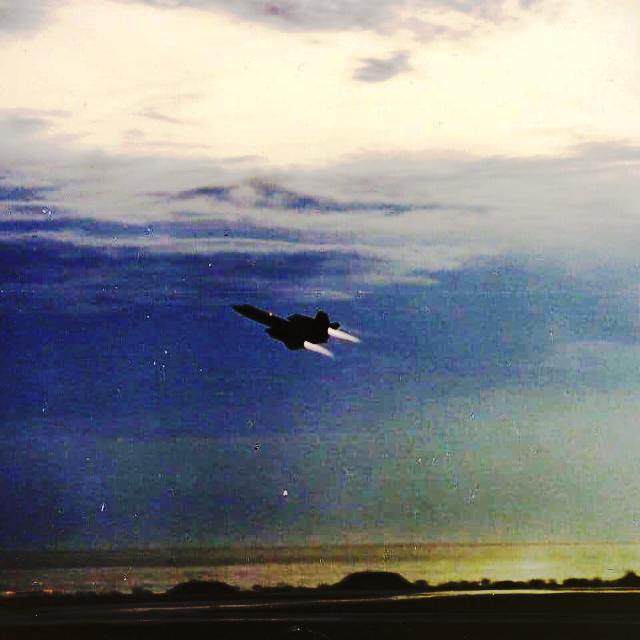Aircraft: (228, 303, 360, 351)
